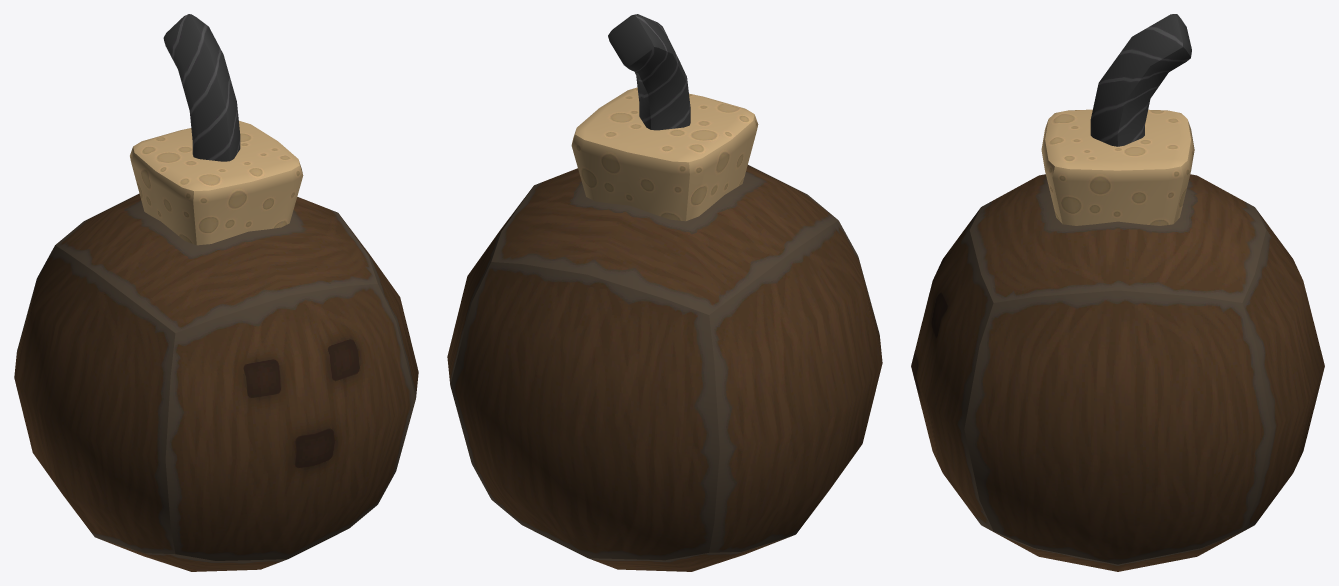
File: coconut bomb.glb
The picture shows the model from 3 angles, left to right: view 1: azimuth 30°, elevation 25°; view 2: azimuth 150°, elevation 25°; view 3: azimuth 270°, elevation 25°; orthographic projection. The views are drawn at different scales.
Parts seen in each view (by area): view 1: Coconut #2327485; view 2: Coconut #2327485; view 3: Coconut #2327485.
Boxes of the visible parts, x1,y1,x2,y2 form: Coconut #2327485: (14, 14, 418, 571); Coconut #2327485: (447, 14, 882, 571); Coconut #2327485: (911, 14, 1324, 571).
Bounding box in the file's own units: 0.2105 × 0.3046 × 0.213.
1 material, 1 textured.
